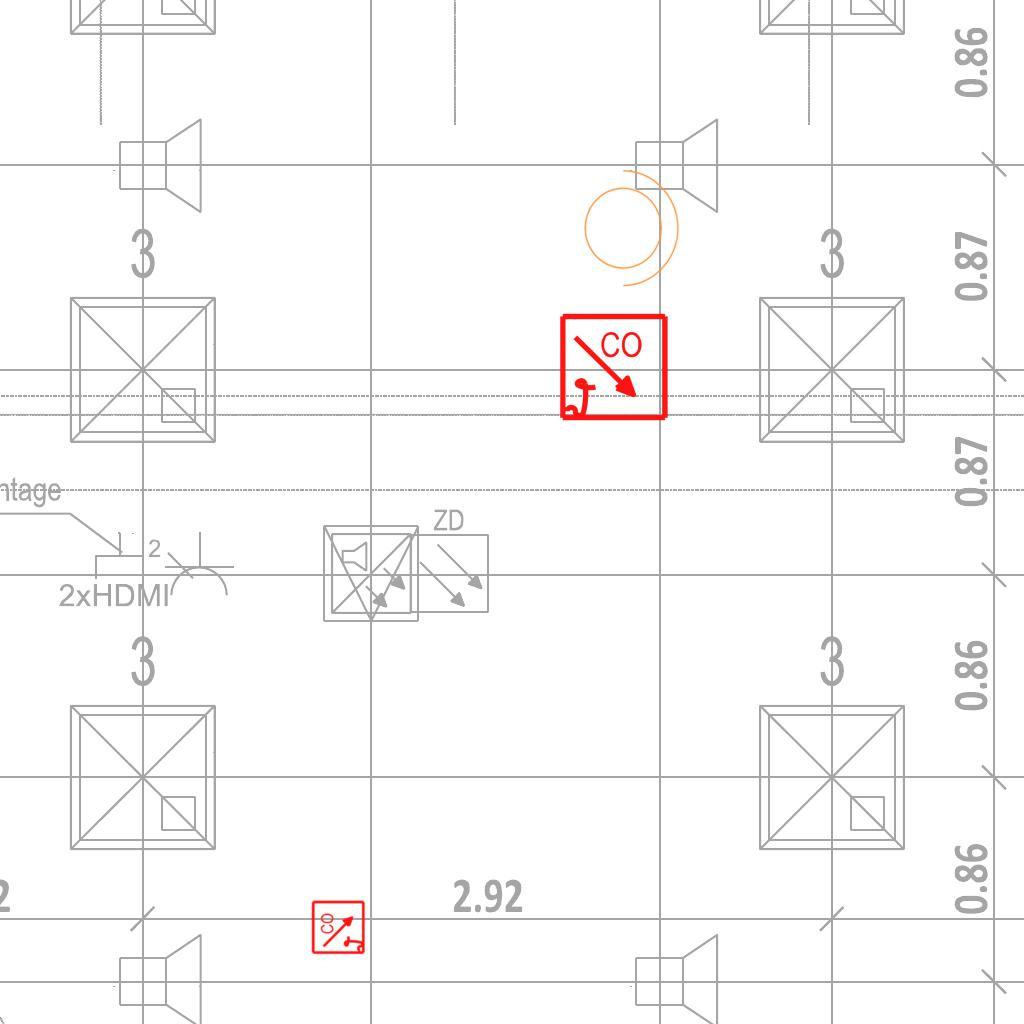ROA_Rauchmelder_optisch_mit_Signalgeber_(Sockelsirene): (558, 312, 671, 425), (311, 899, 367, 955)
Scheinwerfer_fuer_Alarmbeleuchtung: (572, 159, 684, 291)
